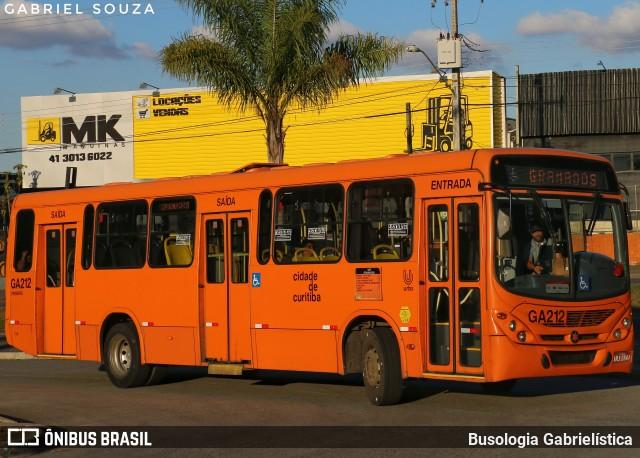GRAMADOS: (521, 160, 602, 193)
